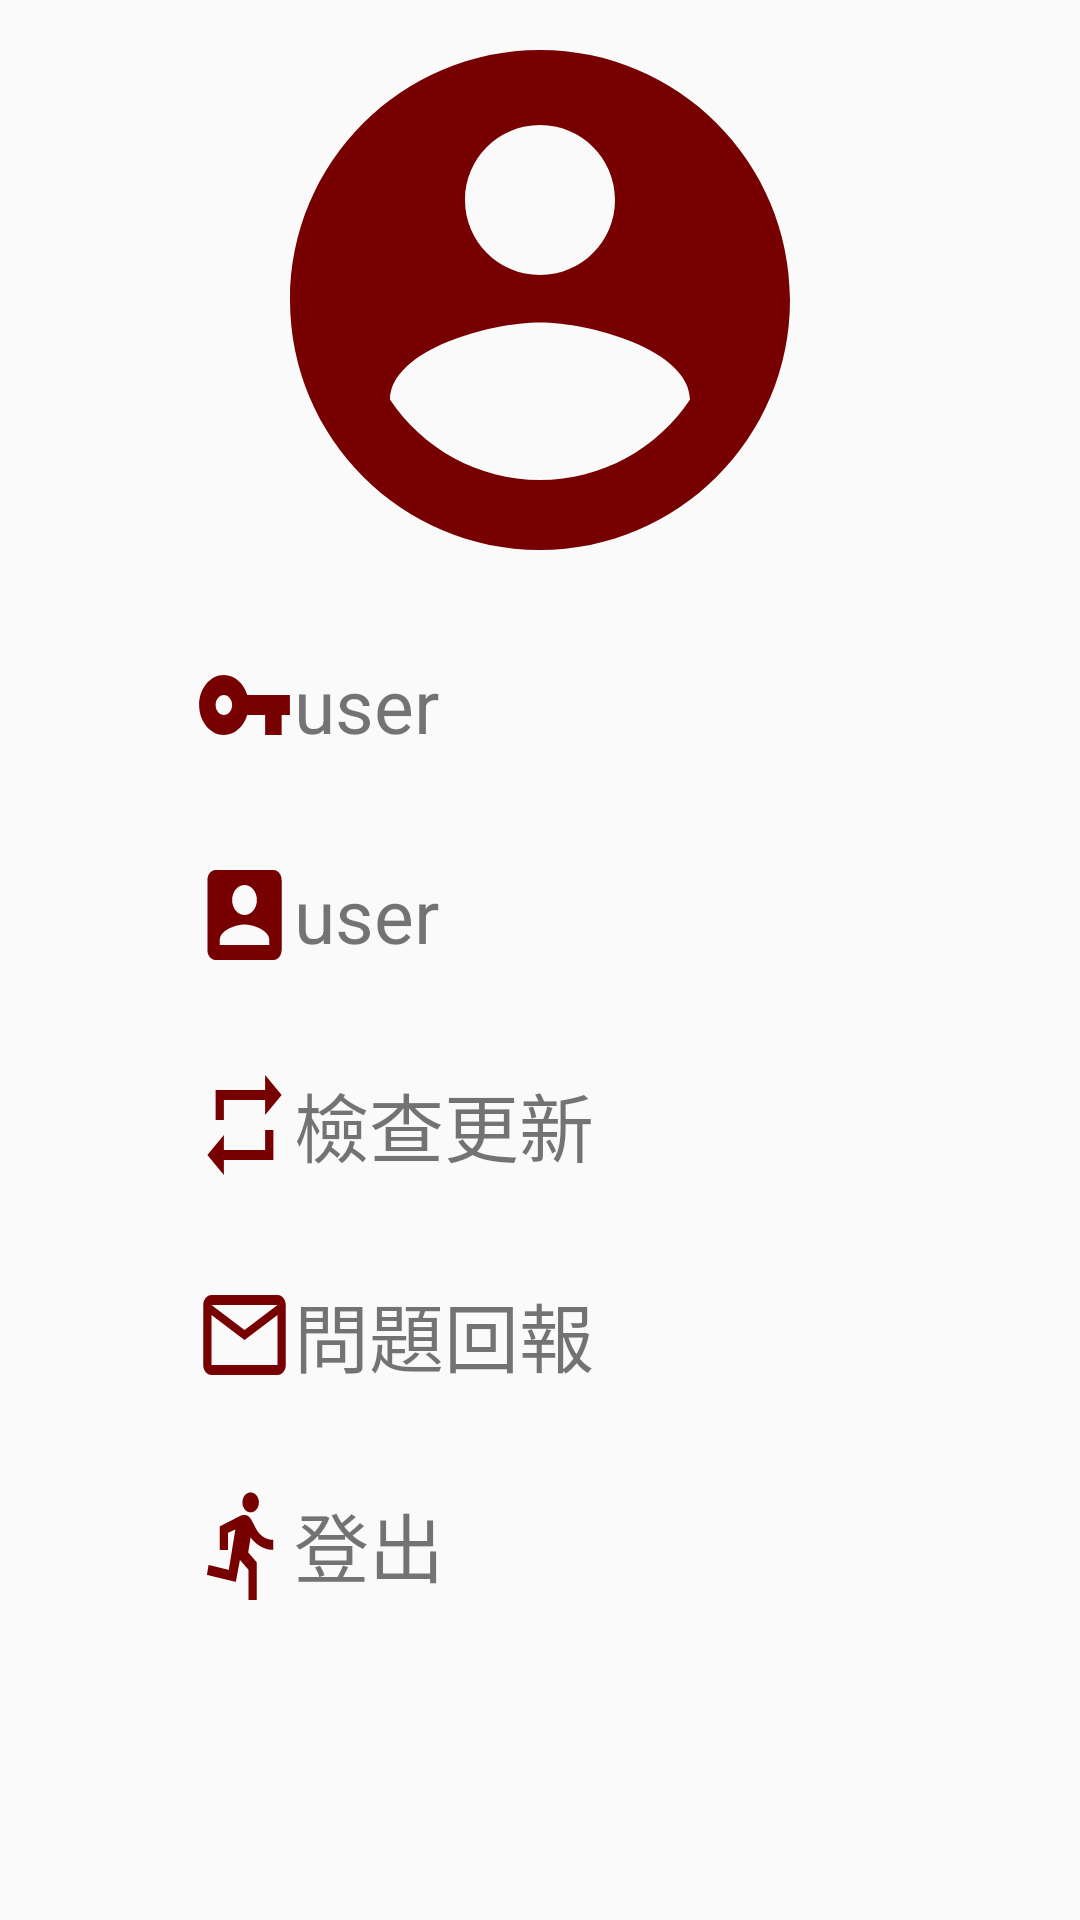

Named icons in this screenshot (1080w x 1920h) and their bounding boxes, {"left": x1, "top": y1, "right": x2, "bottom": y2}:
account box: {"left": 207, "top": 870, "right": 282, "bottom": 960}
mail: {"left": 203, "top": 1295, "right": 286, "bottom": 1375}
update: {"left": 207, "top": 1075, "right": 282, "bottom": 1175}
vpn key: {"left": 199, "top": 675, "right": 290, "bottom": 735}
